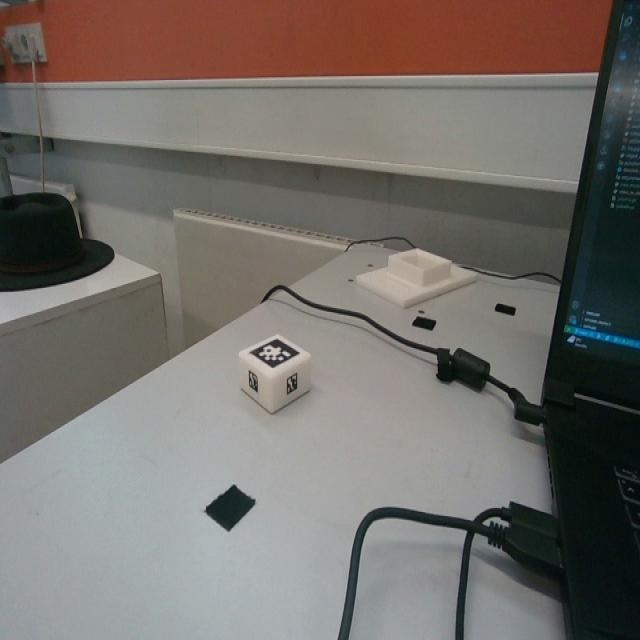Cube: (237, 329, 312, 414)
